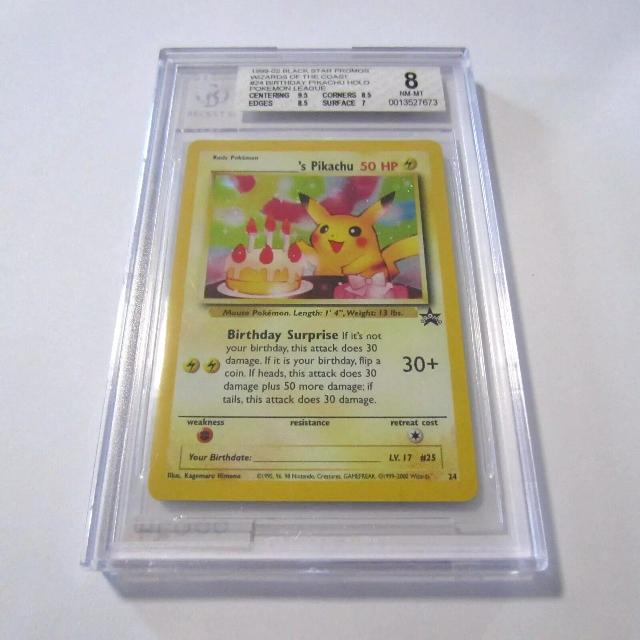bgs_label: (232, 65, 447, 111)
bgs_slab: (77, 46, 552, 571)
card: (144, 139, 480, 501)
